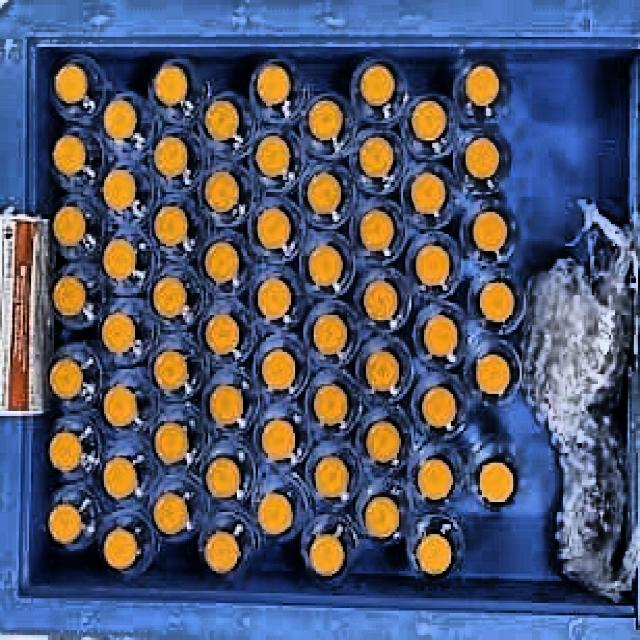vial: (101, 383, 141, 430), (477, 458, 517, 504), (205, 529, 243, 576), (310, 532, 348, 578), (257, 490, 295, 536), (464, 136, 502, 182), (100, 456, 139, 500), (361, 279, 400, 322), (47, 429, 85, 473), (151, 348, 189, 392), (364, 349, 401, 394), (203, 454, 240, 499), (470, 209, 508, 252), (254, 134, 292, 177), (415, 533, 452, 577), (421, 386, 457, 431), (365, 419, 401, 464), (206, 239, 242, 284), (409, 171, 445, 216), (257, 205, 292, 251), (203, 314, 241, 356), (416, 456, 453, 499), (45, 502, 82, 545), (475, 351, 511, 395), (366, 496, 402, 540), (313, 313, 349, 357), (102, 526, 138, 570), (359, 63, 395, 107), (359, 207, 394, 252), (203, 171, 240, 213), (100, 313, 136, 356), (50, 132, 86, 175), (154, 490, 189, 534), (464, 62, 498, 107), (47, 359, 83, 401), (308, 246, 344, 288), (314, 453, 349, 496), (359, 136, 394, 179), (52, 275, 87, 318), (153, 62, 188, 105), (204, 99, 239, 142), (414, 243, 448, 287), (478, 281, 515, 321), (410, 101, 447, 141), (260, 419, 296, 460), (153, 137, 189, 178), (423, 315, 458, 357), (208, 384, 243, 426), (257, 276, 292, 318), (313, 385, 347, 428), (52, 205, 86, 248), (151, 277, 187, 317), (53, 62, 88, 103), (102, 99, 137, 140), (262, 347, 296, 389), (308, 98, 342, 140), (102, 168, 136, 210), (155, 423, 188, 466), (257, 64, 290, 107), (306, 173, 341, 213), (154, 205, 187, 246), (103, 238, 136, 279)
